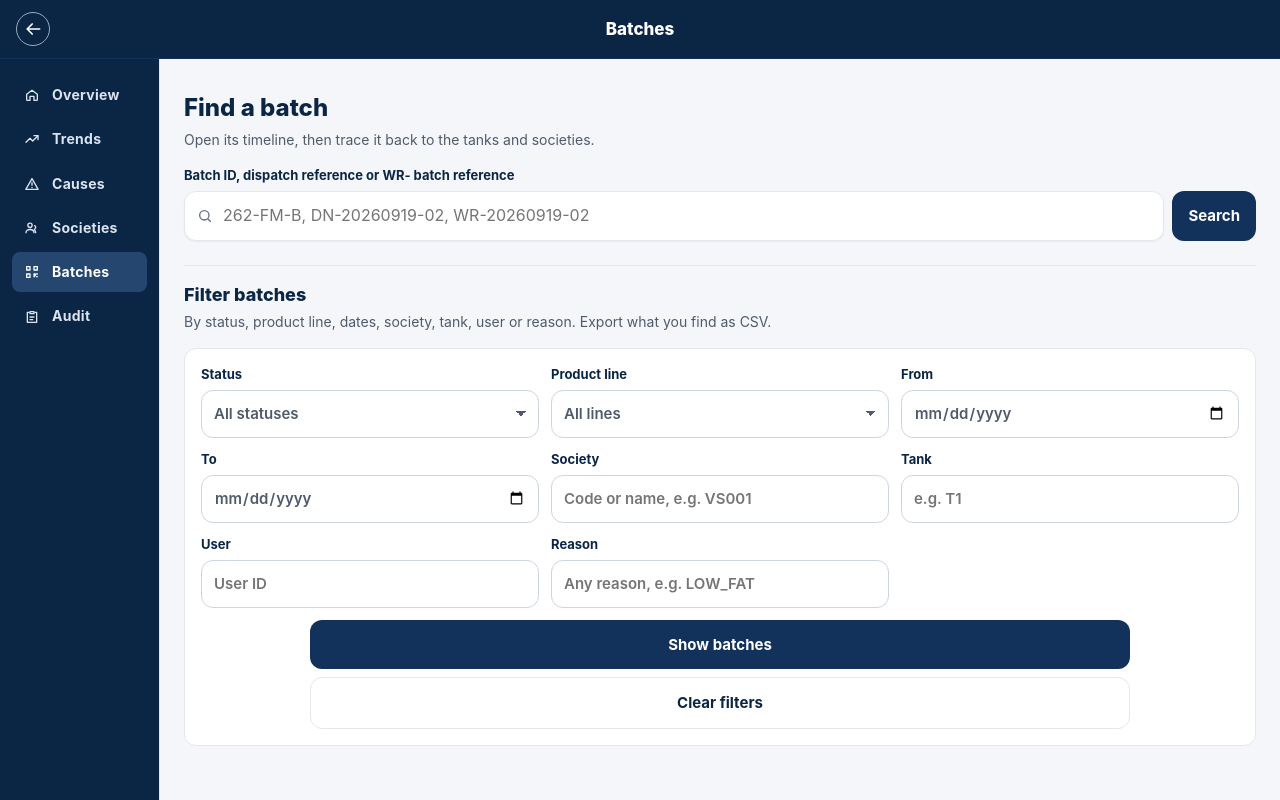
the batch search form (SCRUM-137) › says plainly when nothing matches, without an error
In the search field labelled "Batch ID, dispatch reference or WR- batch reference": [686, 216] box [221, 203, 1152, 228], type "999-FM-Z"
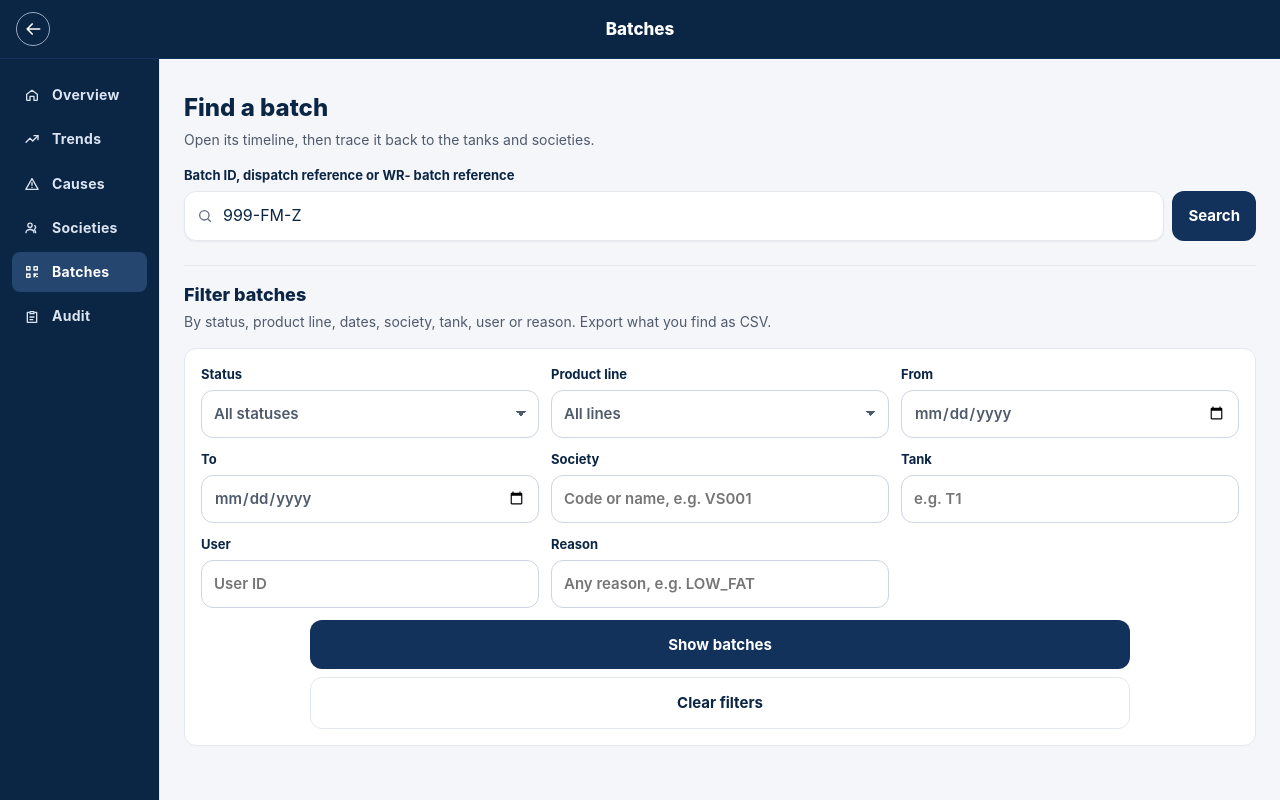
Click the button "Search": [1214, 216] box [1172, 191, 1256, 241]
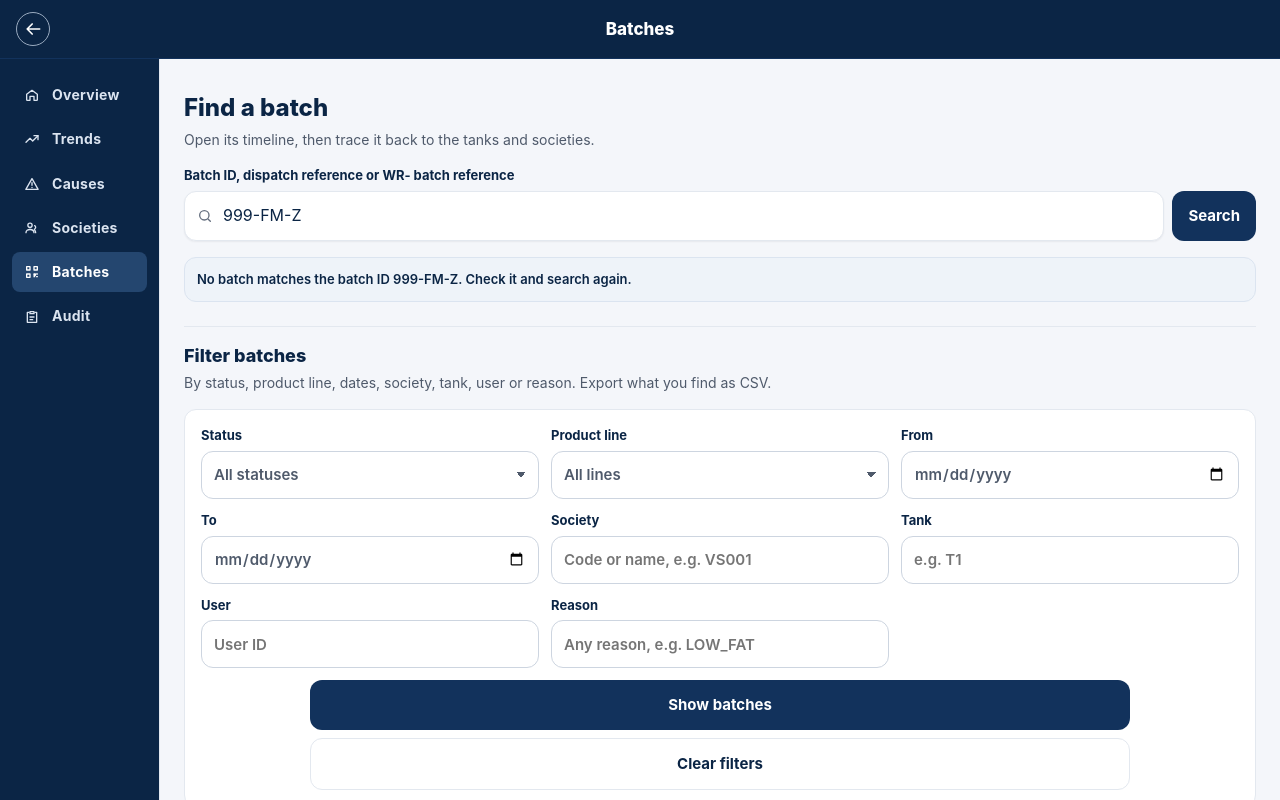
Now the text "No batch matches the batch ID 999-FM-Z. Check it and search again." is shown, box [184, 257, 1256, 302]
